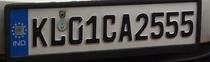0: (68, 16, 84, 45)
1: (85, 15, 101, 43)
2: (135, 12, 149, 41)
5: (150, 11, 166, 39), (165, 11, 180, 39), (180, 10, 195, 38)
A: (119, 13, 134, 42)
C: (102, 13, 117, 44)
K: (31, 17, 48, 47)
L: (50, 17, 66, 47)
